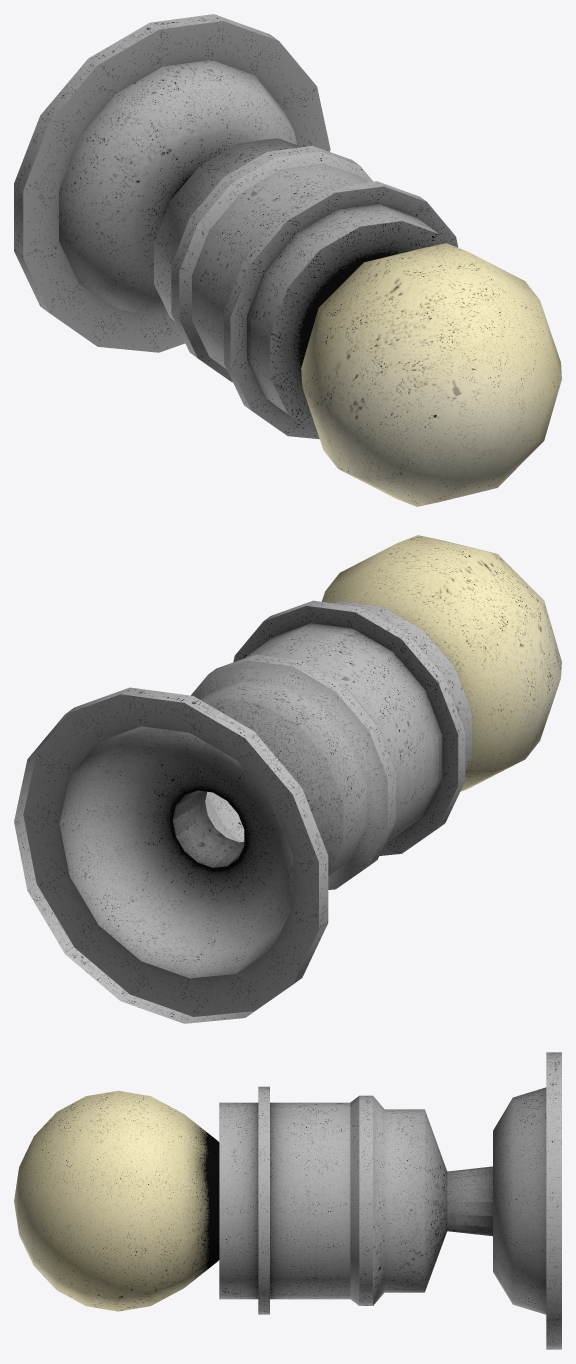
The model's file is SmallBulb.fbx.
3 views of the same model, one above another, from view 1: azimuth 30°, elevation 25°; view 2: azimuth 150°, elevation 25°; view 3: azimuth 270°, elevation 25° (orthographic). The views are drawn at different scales.
Parts seen in each view (by area): view 1: Holder, Bulbb; view 2: Holder, Bulbb; view 3: Holder, Bulbb.
Part boxes in pixels (left/top/right/bottom): Holder: left=14, top=14, right=458, bottom=439; Bulbb: left=301, top=243, right=561, bottom=506; Holder: left=14, top=600, right=472, bottom=1023; Bulbb: left=321, top=535, right=561, bottom=791; Holder: left=219, top=1052, right=561, bottom=1349; Bulbb: left=14, top=1090, right=219, bottom=1311.
Bounding box in the file's own units: 11.57 × 11.63 × 21.43.
